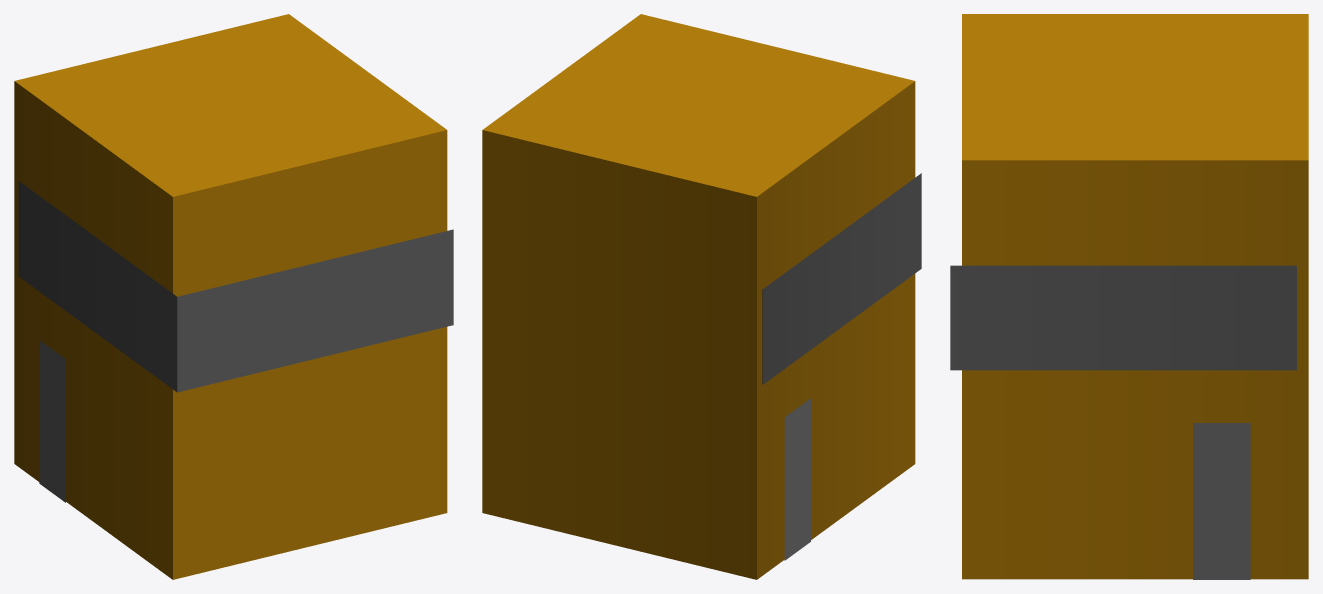
Rendered from building-12-high.glb.
3 renders of one model, left to right at view 1: azimuth 30°, elevation 25°; view 2: azimuth 150°, elevation 25°; view 3: azimuth 270°, elevation 25°, orthographic. The views are drawn at different scales.
Visible parts, largest first — view 1: mesh0; view 2: mesh0; view 3: mesh0.
Boxes of the visible parts, box(x1,y1,x2,y2) form: mesh0: box(14, 14, 453, 579); mesh0: box(482, 14, 921, 579); mesh0: box(950, 14, 1308, 579).
Bounding box in the file's own units: 0.606 × 0.8 × 0.62.
